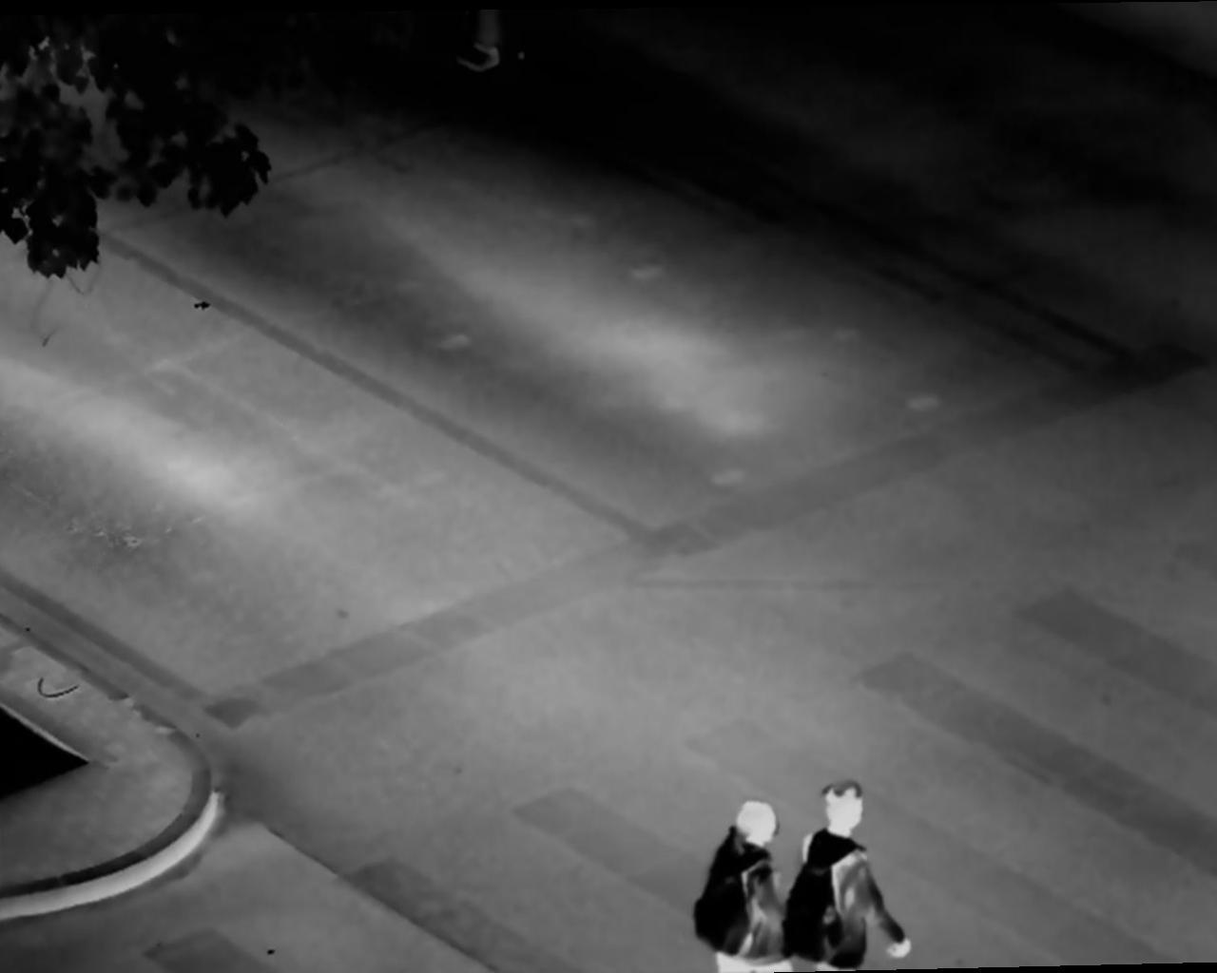person: (794, 770, 909, 973), (695, 797, 783, 973)
